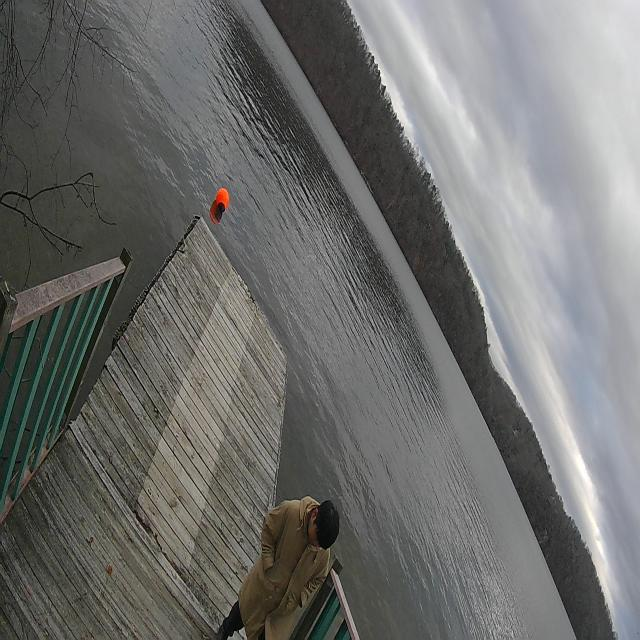Buoy: (215, 183, 231, 215)
